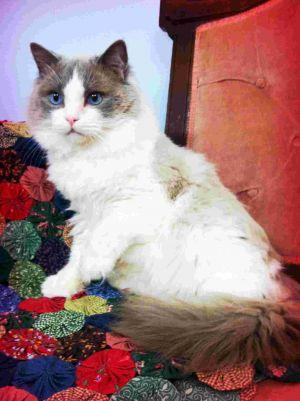ragdoll: (25, 35, 139, 152)
